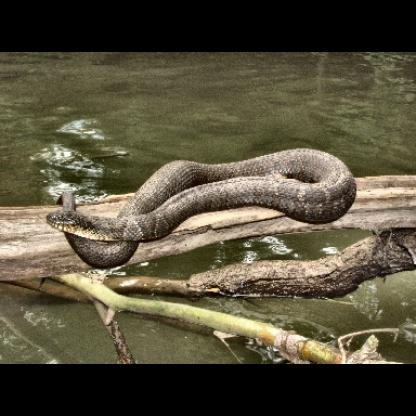Snake: (40, 151, 363, 264)
